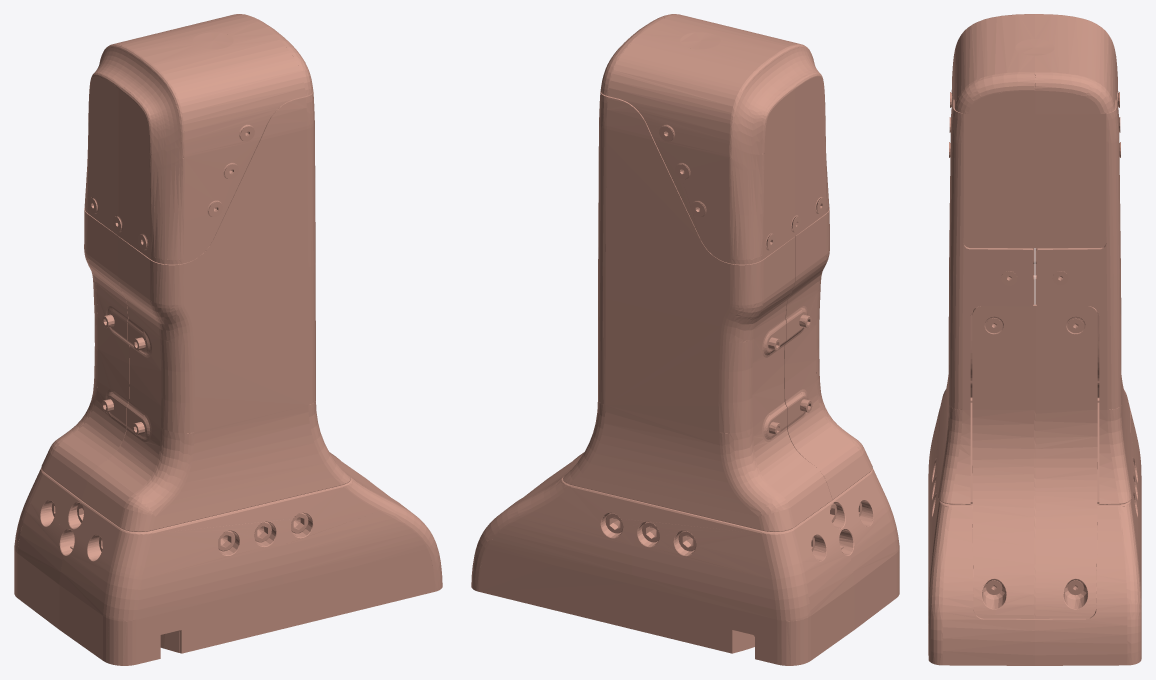
The picture shows the model from 3 angles, left to right: view 1: azimuth 30°, elevation 25°; view 2: azimuth 150°, elevation 25°; view 3: azimuth 270°, elevation 25°; orthographic projection. The views are drawn at different scales.
Visible parts, largest first — view 1: Link_01; view 2: Link_01; view 3: Link_01.
Boxes of the visible parts, left/top/right/bottom form: Link_01: left=14, top=14, right=442, bottom=665; Link_01: left=471, top=14, right=899, bottom=665; Link_01: left=928, top=14, right=1141, bottom=665.
Size of the model in its own units: 312 by 178 by 491.
